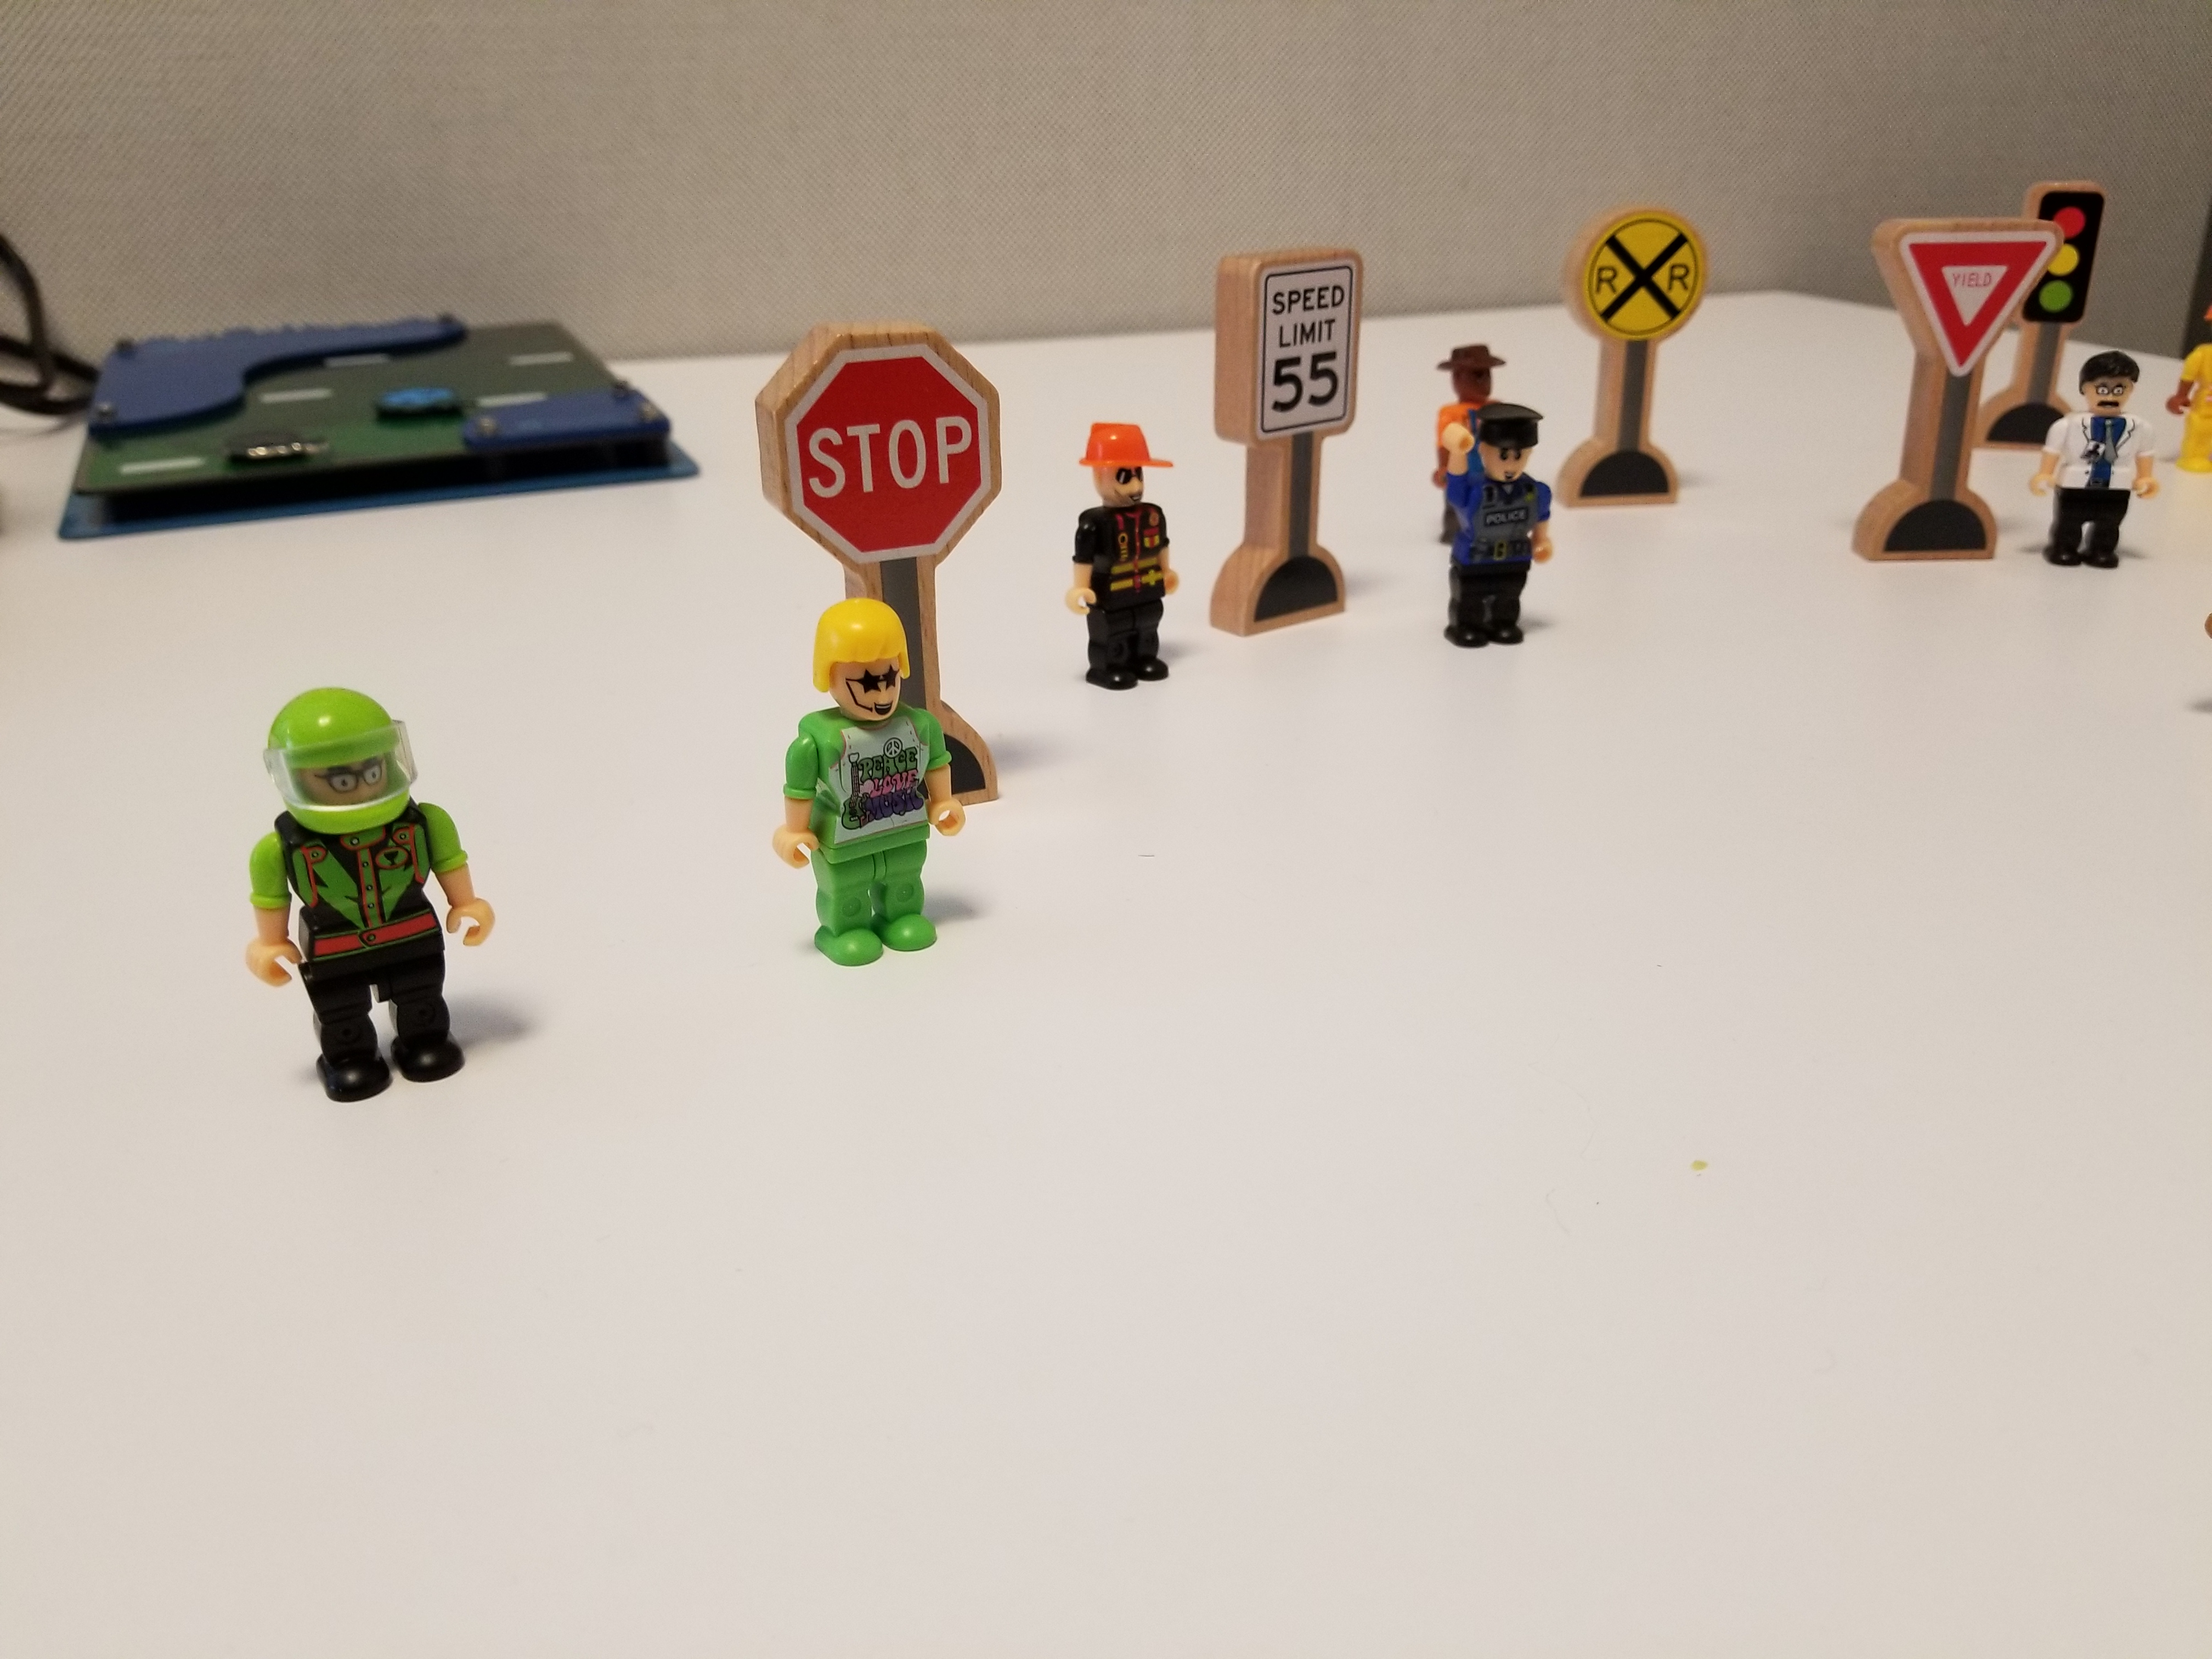Railroad Crossing: (1570, 179, 1713, 550)
Speed limit 55: (1199, 218, 1403, 666)
Stop: (727, 297, 1015, 591)
Yield: (1838, 185, 2062, 591)
person: (207, 679, 526, 1101), (745, 591, 980, 995), (1419, 321, 1588, 675), (1052, 392, 1204, 719), (2046, 330, 2167, 578)
